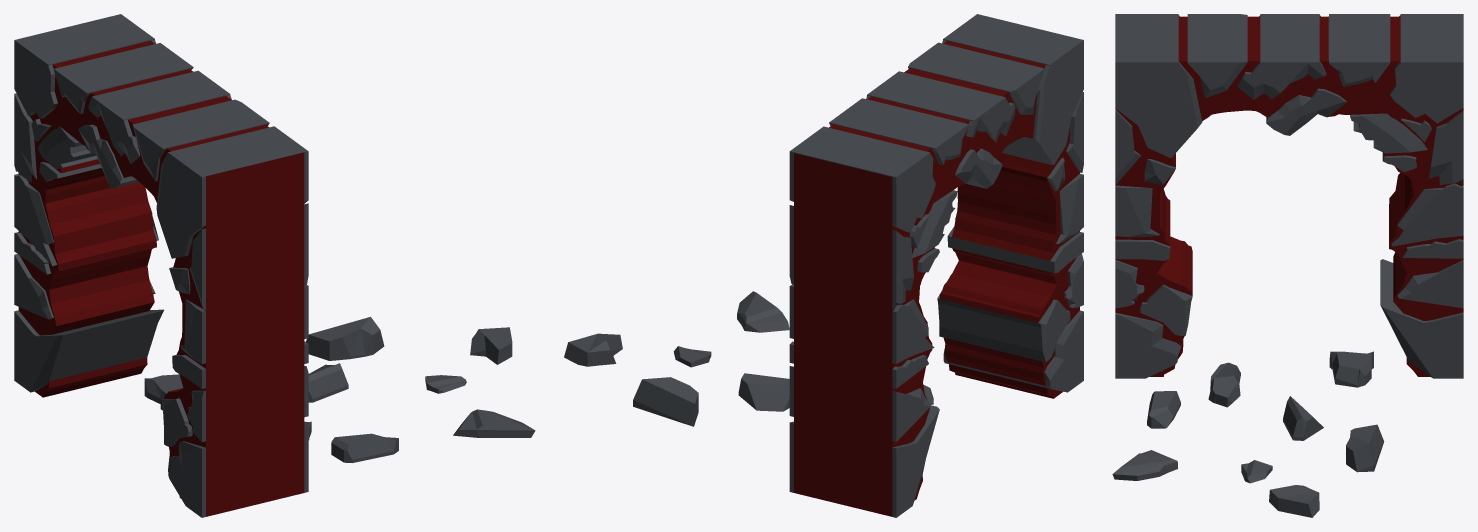
File: AbWallBroken.fbx
The picture shows the model from 3 angles, left to right: view 1: azimuth 30°, elevation 25°; view 2: azimuth 150°, elevation 25°; view 3: azimuth 270°, elevation 25°; orthographic projection. The views are drawn at different scales.
Visible parts, largest first — view 1: AbWallBroken, Rubble; view 2: AbWallBroken, Rubble; view 3: AbWallBroken, Rubble.
Part boxes in pixels (x1=…): AbWallBroken: x1=14, y1=14, x2=308, y2=517; Rubble: x1=144, y1=316, x2=535, y2=462; AbWallBroken: x1=789, y1=14, x2=1083, y2=517; Rubble: x1=564, y1=291, x2=933, y2=426; AbWallBroken: x1=1115, y1=14, x2=1463, y2=378; Rubble: x1=1112, y1=351, x2=1384, y2=517.
Size of the model in its own units: 764 by 601 by 605.
